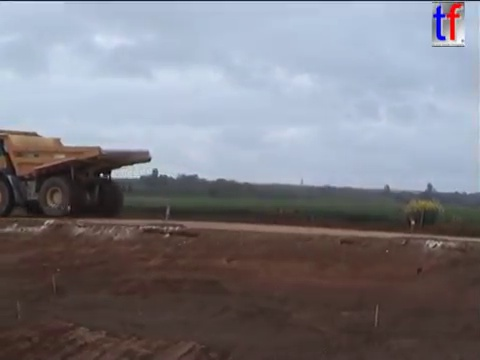truck: (1, 127, 153, 219)
